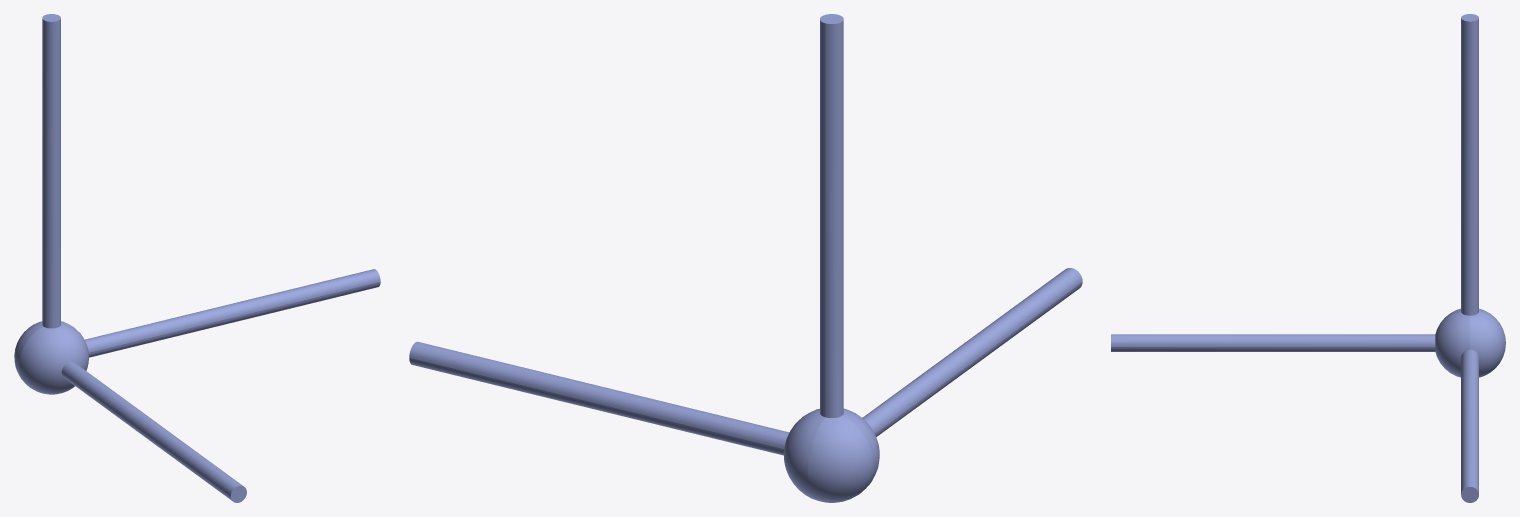
Rendered from axesHelper.glb.
The picture shows the model from 3 angles, left to right: view 1: azimuth 30°, elevation 25°; view 2: azimuth 150°, elevation 25°; view 3: azimuth 270°, elevation 25°; orthographic projection. The views are drawn at different scales.
Parts seen in each view (by area): view 1: Mesh (×4); view 2: Mesh (×4); view 3: Mesh (×4).
Part boxes in pixels (box(x1,y1,x2,y2)): Mesh (×4): box(14, 14, 380, 502); Mesh (×4): box(409, 14, 1082, 502); Mesh (×4): box(1111, 14, 1505, 502).
Bounding box in the file's own units: 22 × 21.99 × 22.
